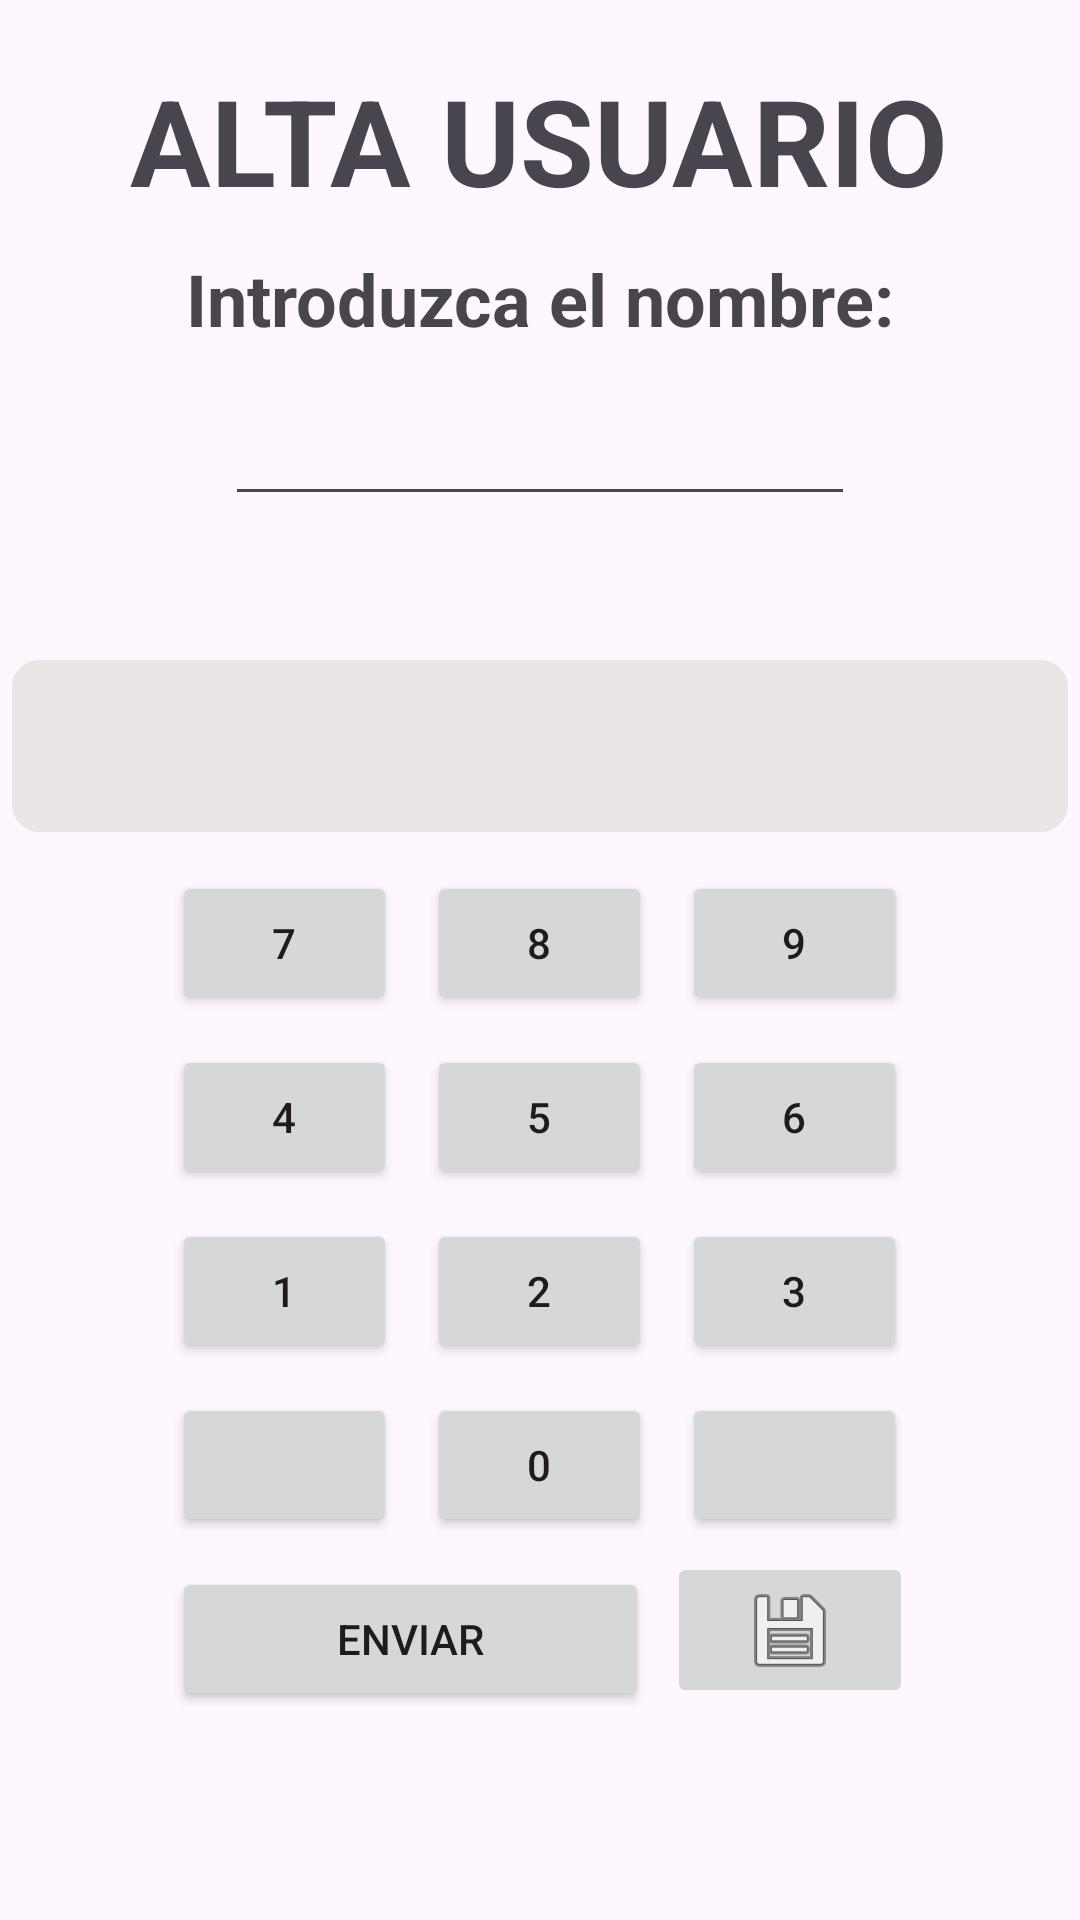

Point at icon controls on the screen. Image size 1080 × 1920, points as (x,y).
save: (790,1630)
